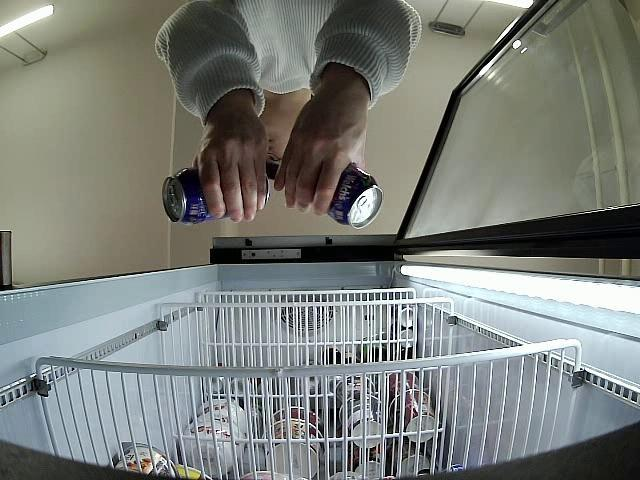14_welchsGrape: (162, 168, 269, 224), (312, 162, 382, 227)
